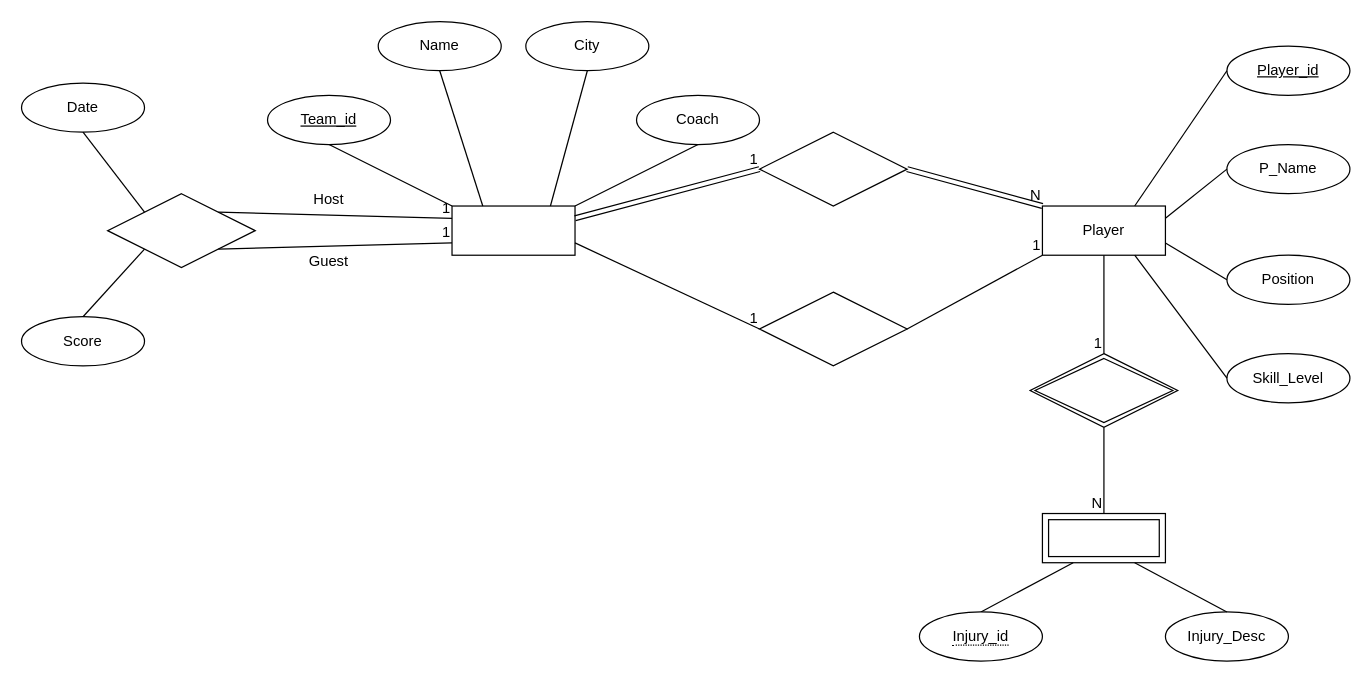
Some shapes in this 1371 by 683 pixel diagram are drawn without their labels. Here are the shapes that lost their labels. From the top down, the box of each, then its label:
(758, 131, 907, 206): Has
(106, 192, 255, 268): Game
(451, 205, 575, 255): Teams
(758, 291, 907, 366): Captain
(1029, 352, 1178, 427): Relationship
(1041, 512, 1165, 563): Injury Record
